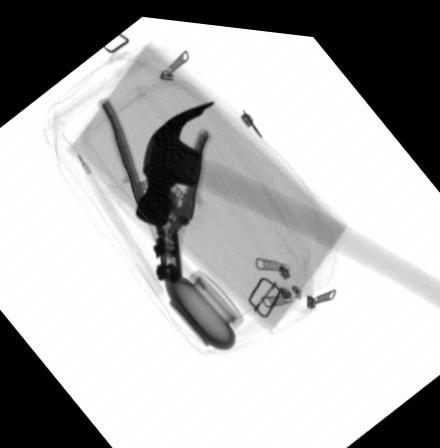Hammer: (135, 96, 440, 297)
Pliers: (99, 96, 209, 277)
